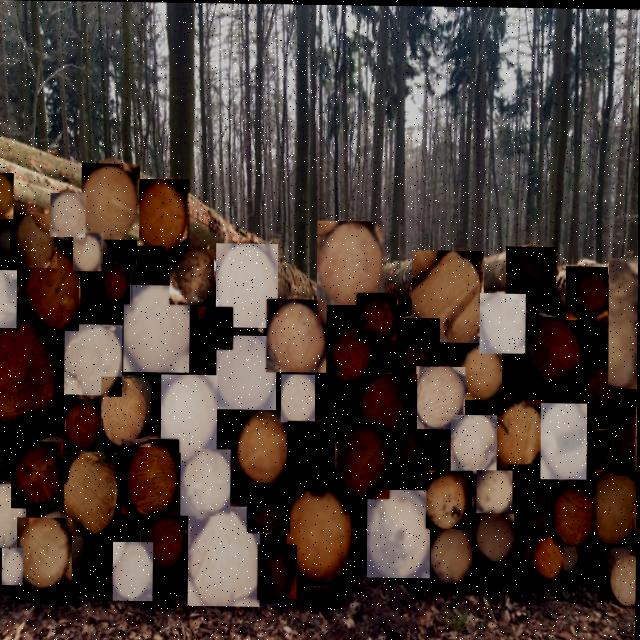wood-log: (189, 505, 261, 606), (288, 489, 359, 585), (412, 249, 485, 342), (0, 319, 59, 428), (124, 284, 191, 372), (318, 220, 386, 305), (368, 488, 431, 577), (216, 243, 279, 328), (22, 246, 80, 331), (61, 454, 121, 536), (161, 374, 218, 453), (82, 163, 140, 240), (217, 335, 277, 409), (267, 298, 327, 372), (122, 438, 179, 514), (65, 324, 123, 397), (18, 518, 73, 594), (526, 315, 584, 387), (609, 256, 639, 387), (338, 425, 391, 498), (361, 372, 418, 439), (138, 179, 190, 251), (235, 409, 287, 481), (13, 441, 67, 509), (494, 398, 545, 469), (101, 377, 152, 447), (509, 463, 559, 534), (542, 401, 588, 478), (181, 448, 231, 516), (289, 420, 337, 490), (326, 324, 375, 390), (595, 468, 637, 542), (417, 365, 466, 428), (573, 364, 622, 427), (506, 245, 557, 304), (554, 481, 599, 545), (393, 317, 440, 377), (480, 292, 526, 352), (452, 413, 498, 472), (427, 469, 473, 528), (142, 509, 186, 570), (170, 248, 215, 305), (114, 541, 154, 601), (15, 213, 58, 268), (567, 265, 609, 319), (432, 528, 473, 583), (463, 343, 503, 399), (259, 545, 298, 601), (248, 482, 291, 532), (66, 399, 105, 451), (474, 511, 515, 560), (358, 292, 397, 340), (393, 430, 430, 480), (0, 484, 27, 548), (530, 532, 565, 580), (282, 373, 316, 422), (615, 401, 637, 473), (477, 469, 513, 513), (51, 193, 86, 237), (199, 306, 233, 349), (612, 549, 637, 603), (100, 263, 132, 304), (74, 233, 104, 271), (137, 246, 166, 284), (0, 270, 17, 328), (3, 548, 24, 585), (334, 395, 358, 426), (0, 173, 14, 219), (0, 442, 8, 484), (0, 227, 11, 255)
